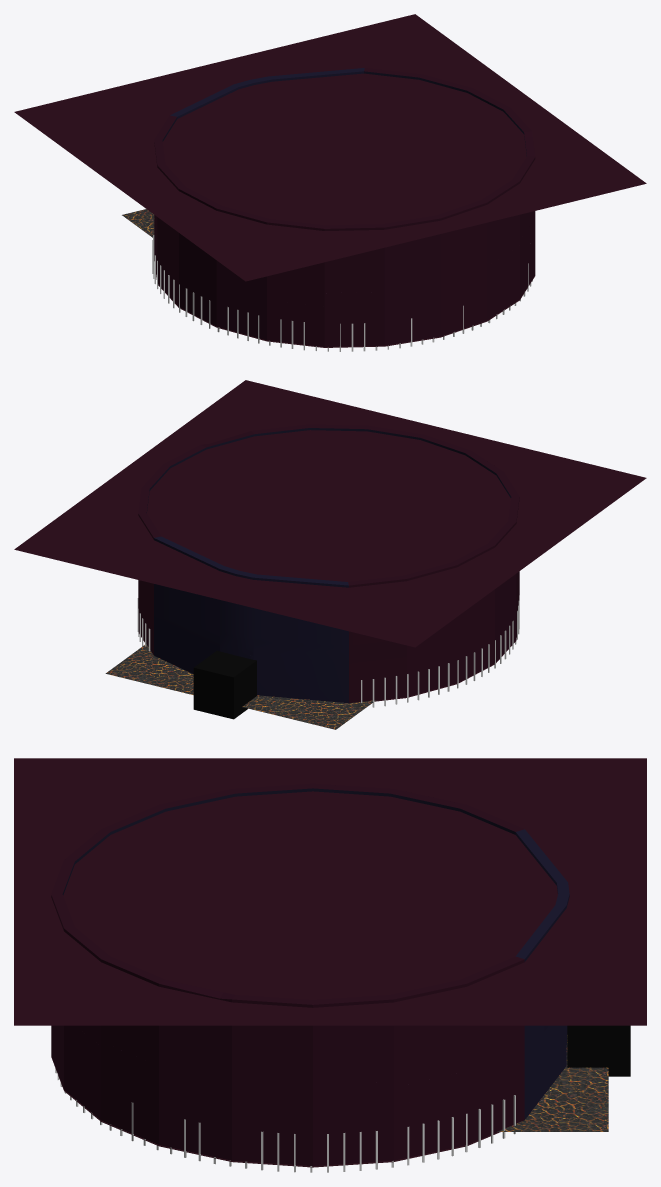
Rendered from arena boi.fbx.
The picture shows the model from 3 angles, top to bottom: view 1: azimuth 30°, elevation 25°; view 2: azimuth 150°, elevation 25°; view 3: azimuth 270°, elevation 25°; orthographic projection. The views are drawn at different scales.
Visible parts, largest first — view 1: Plane.001, Arena_Base_arena_entrance_arena_walls_exterior, Arena_Base_entrance_wall_arena_entrance, Arena_Base_Arena_Base_polySurface134_polySurface1_arena_floo, Arena_Base_polySurface18_walls_Arena_Base, Plane; view 2: Plane.001, Arena_Base_arena_entrance_arena_walls_exterior, Arena_Base_entrance_wall_arena_entrance, Plane, Cube, Arena_Base_polySurface18_walls_Arena_Base; view 3: Plane.001, Arena_Base_arena_entrance_arena_walls_exterior, Arena_Base_entrance_wall_arena_entrance, Plane, Cube, Arena_Base_polySurface18_walls_Arena_Base, Arena_Base_Arena_Base_polySurface134_polySurface1_arena_floo.
Boxes of the visible parts, x1,y1,x2,y2 form: Plane.001: (14,14,646,281); Arena_Base_arena_entrance_arena_walls_exterior: (154,68,535,346); Arena_Base_entrance_wall_arena_entrance: (170,68,364,118); Arena_Base_Arena_Base_polySurface134_polySurface1_arena_floo: (154,260,535,347); Arena_Base_polySurface18_walls_Arena_Base: (162,71,526,156); Plane: (122,209,154,237); Plane.001: (14,380,646,647); Arena_Base_arena_entrance_arena_walls_exterior: (138,424,519,703); Arena_Base_entrance_wall_arena_entrance: (154,536,348,703); Plane: (105,644,375,729); Cube: (193,651,256,719); Arena_Base_polySurface18_walls_Arena_Base: (146,428,511,512); Plane.001: (14,758,646,1025); Arena_Base_arena_entrance_arena_walls_exterior: (51,783,524,1166); Arena_Base_entrance_wall_arena_entrance: (515,829,569,1119); Plane: (497,1035,608,1131); Cube: (567,1025,630,1076); Arena_Base_polySurface18_walls_Arena_Base: (62,788,515,895); Arena_Base_Arena_Base_polySurface134_polySurface1_arena_floo: (51,1056,500,1167).
Bounding box in the file's own units: 3802 × 1125 × 3802.
